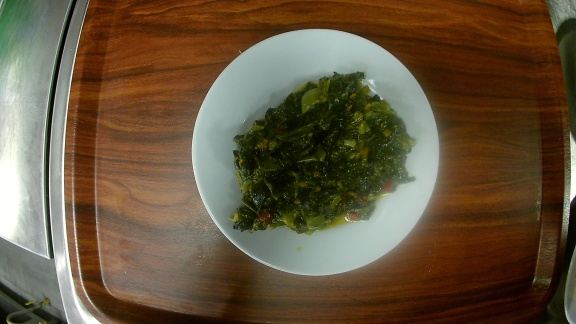ispanak: (188, 28, 442, 276)
